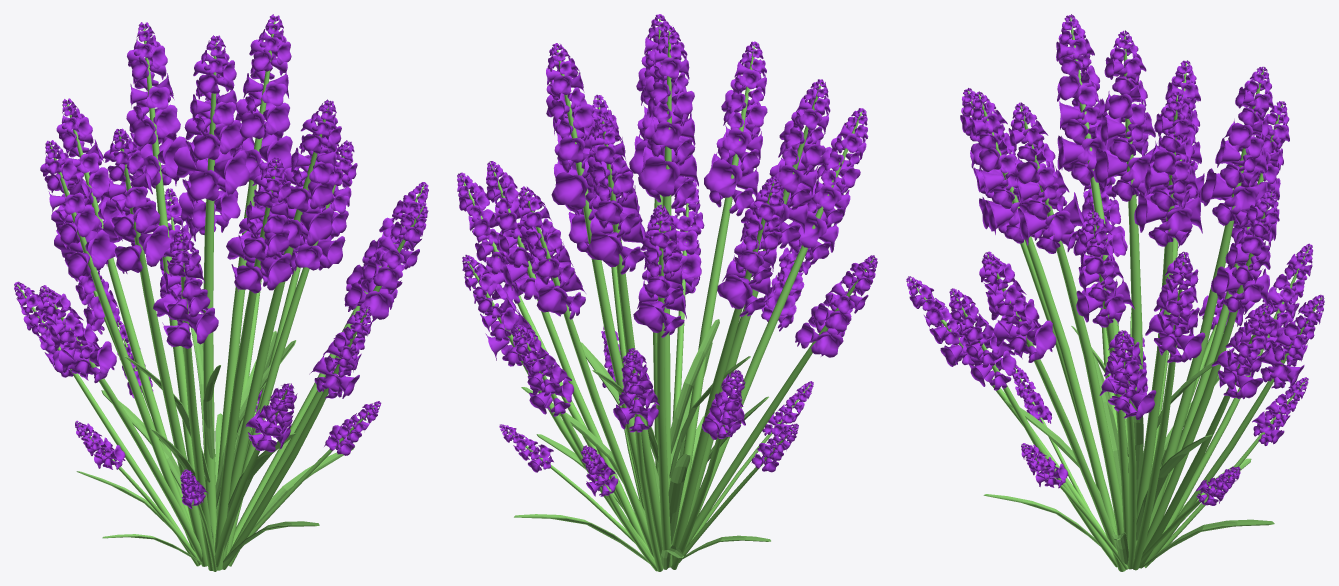
File: Stage1lavender100%.fbx
The picture shows the model from 3 angles, left to right: view 1: azimuth 30°, elevation 25°; view 2: azimuth 150°, elevation 25°; view 3: azimuth 270°, elevation 25°; orthographic projection.
Visible parts, largest first — view 1: main lavender, main lavender.004, main lavender.006, main lavender.001, main lavender.003, main lavender.005, main lavender.002, main lavender.010, main lavender.015, main lavender.012, main lavender.007, main lavender.009 (+20 smaller); view 2: main lavender.006, main lavender, main lavender.002, main lavender.001, main lavender.005, main lavender.010, main lavender.008, main lavender.007, main lavender.004, main lavender.015, main lavender.013, main lavender.017 (+19 smaller); view 3: main lavender.003, main lavender.002, main lavender.001, main lavender, main lavender.006, main lavender.004, main lavender.008, main lavender.012, main lavender.013, main lavender.009, main lavender.017, main lavender.016 (+19 smaller).
Part boxes in pixels (left/top/right/bottom): main lavender: left=173, top=35, right=249, bottom=548; main lavender.004: left=103, top=128, right=207, bottom=566; main lavender.006: left=214, top=157, right=292, bottom=570; main lavender.001: left=216, top=14, right=292, bottom=518; main lavender.003: left=223, top=99, right=341, bottom=560; main lavender.005: left=40, top=140, right=201, bottom=564; main lavender.002: left=126, top=22, right=194, bottom=470; main lavender.010: left=153, top=232, right=218, bottom=570; main lavender.015: left=38, top=285, right=202, bottom=564; main lavender.012: left=228, top=203, right=428, bottom=566; main lavender.007: left=56, top=98, right=191, bottom=523; main lavender.009: left=226, top=140, right=357, bottom=555; main lavender.006: left=672, top=41, right=767, bottom=544; main lavender: left=638, top=24, right=698, bottom=545; main lavender.002: left=586, top=113, right=662, bottom=557; main lavender.001: left=546, top=43, right=644, bottom=507; main lavender.005: left=670, top=176, right=784, bottom=567; main lavender.010: left=696, top=108, right=868, bottom=516; main lavender.008: left=518, top=186, right=653, bottom=557; main lavender.007: left=633, top=204, right=686, bottom=567; main lavender.004: left=687, top=79, right=830, bottom=524; main lavender.015: left=685, top=255, right=877, bottom=548; main lavender.013: left=486, top=161, right=647, bottom=546; main lavender.017: left=462, top=254, right=649, bottom=551; main lavender.003: left=1008, top=102, right=1123, bottom=535; main lavender.002: left=1148, top=66, right=1274, bottom=529; main lavender.001: left=1134, top=91, right=1202, bottom=548; main lavender: left=1093, top=30, right=1160, bottom=405; main lavender.006: left=969, top=91, right=1117, bottom=535; main lavender.004: left=1056, top=14, right=1127, bottom=442; main lavender.008: left=1143, top=188, right=1279, bottom=551; main lavender.012: left=979, top=251, right=1125, bottom=571; main lavender.013: left=1132, top=251, right=1205, bottom=570; main lavender.009: left=1076, top=209, right=1134, bottom=545; main lavender.017: left=1139, top=303, right=1274, bottom=568; main lavender.016: left=949, top=288, right=1117, bottom=567.
Size of the model in its own units: 142 by 181 by 128.
